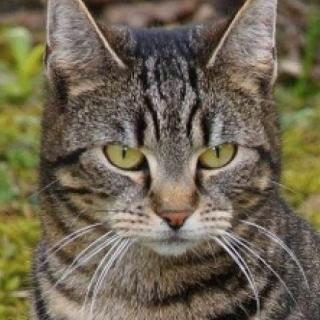cat: (45, 0, 279, 261)
nose: (152, 180, 195, 232)
